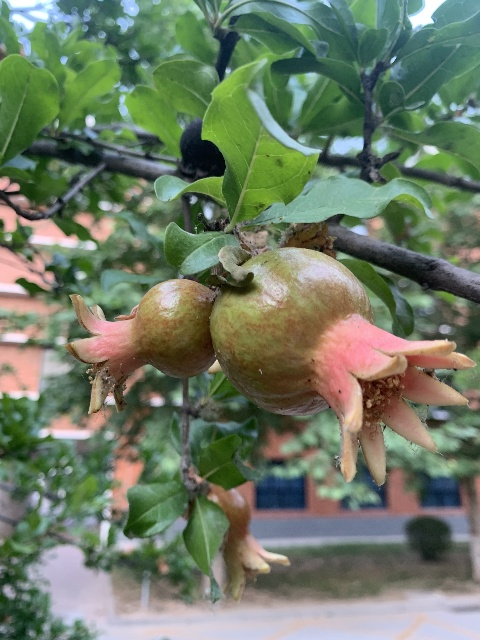early-fruit: (213, 248, 476, 485), (64, 278, 216, 412), (206, 479, 290, 603)
